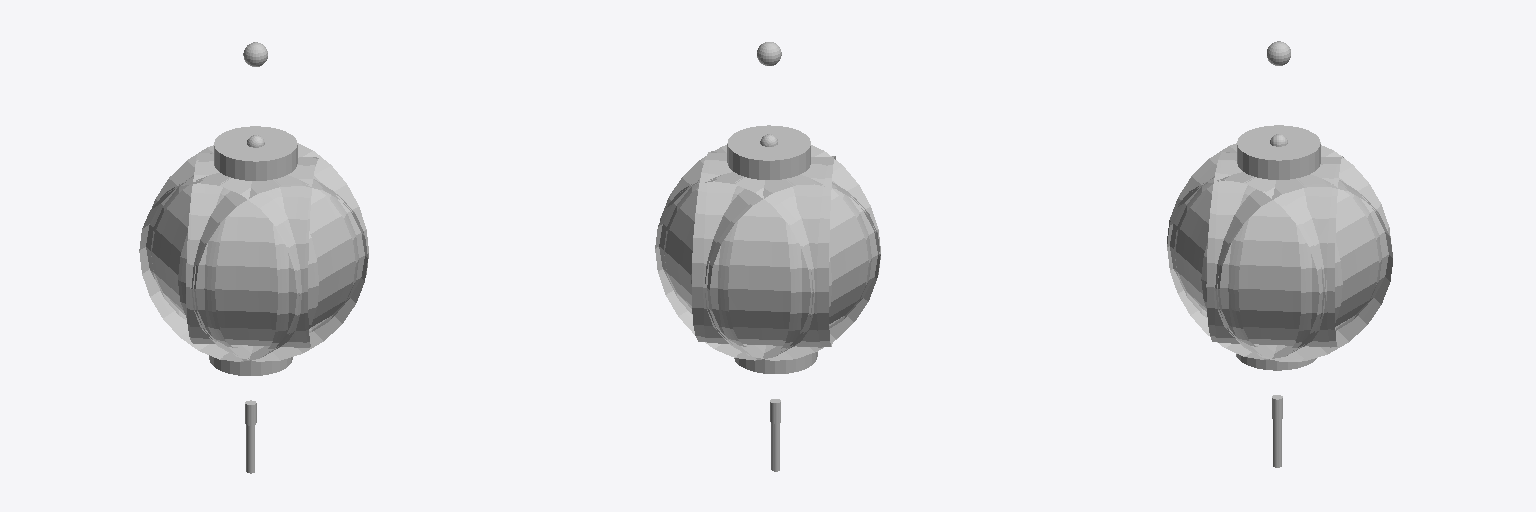
The model's file is lantern.002.obj.
3 renders of one model, left to right at view 1: azimuth 30°, elevation 25°; view 2: azimuth 150°, elevation 25°; view 3: azimuth 270°, elevation 25°, orthographic.
Visible parts, largest first — view 1: lantern.002_3d-model.002; view 2: lantern.002_3d-model.002; view 3: lantern.002_3d-model.002.
Boxes of the visible parts, x1,y1,x2,y2 form: lantern.002_3d-model.002: [139, 42, 368, 473]; lantern.002_3d-model.002: [655, 42, 880, 471]; lantern.002_3d-model.002: [1167, 41, 1392, 467].
Bounding box in the file's own units: 0.2315 × 0.5187 × 0.2502.